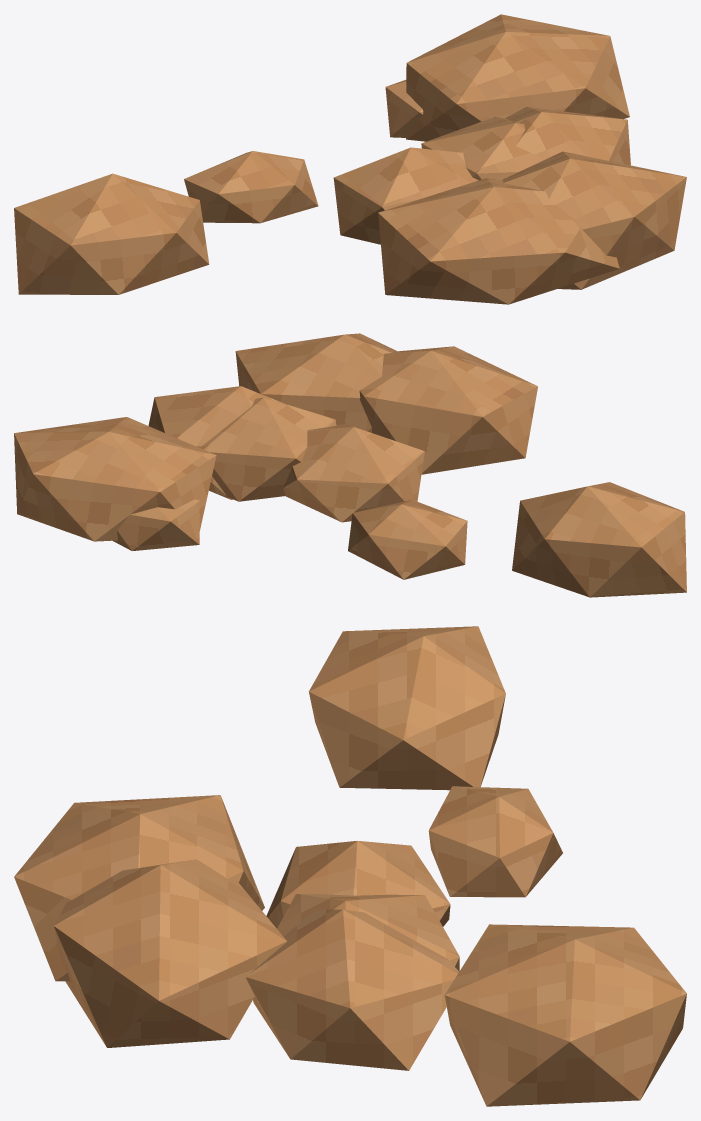
The model's file is desert_pebbles.glb.
The picture shows the model from 3 angles, top to bottom: view 1: azimuth 30°, elevation 25°; view 2: azimuth 150°, elevation 25°; view 3: azimuth 270°, elevation 25°; orthographic projection. The views are drawn at different scales.
Visible parts, largest first — view 1: Pebbles; view 2: Pebbles; view 3: Pebbles.
Part boxes in pixels (box(x1,y1,x2,y2)): Pebbles: box(14, 14, 686, 304); Pebbles: box(14, 333, 686, 597); Pebbles: box(14, 626, 686, 1106).
Size of the model in its own units: 1.07 by 0.1534 by 0.726.
1 material, 1 textured.
